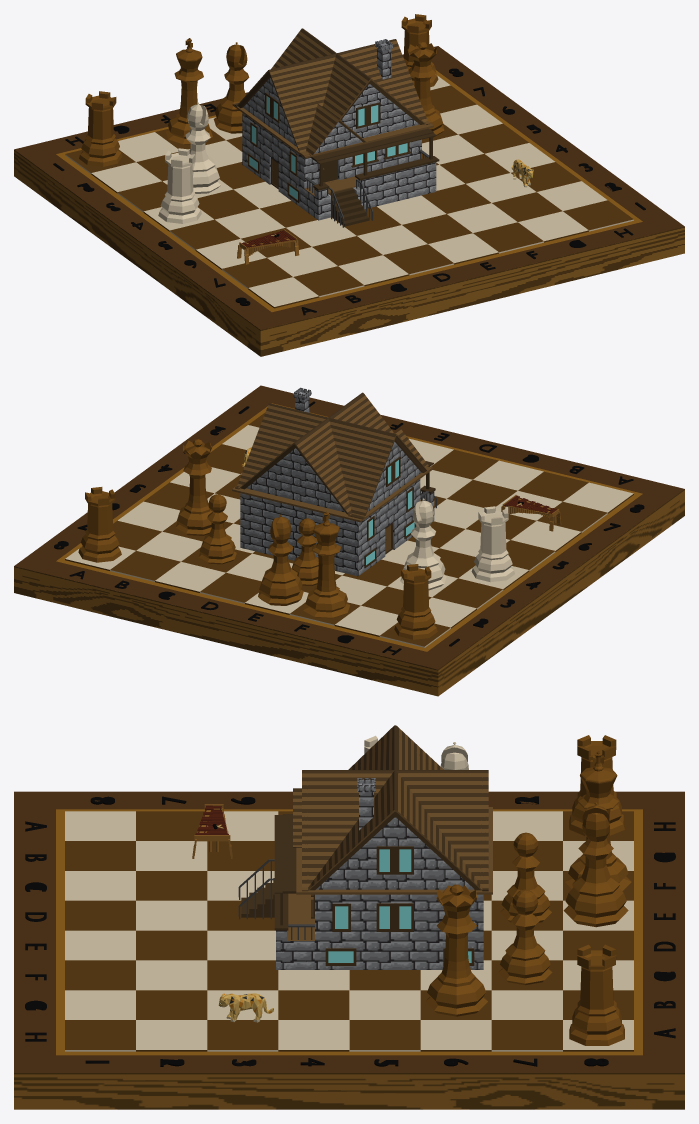
3 renders of one model, top to bottom at view 1: azimuth 30°, elevation 25°; view 2: azimuth 150°, elevation 25°; view 3: azimuth 270°, elevation 25°, orthographic. The views are drawn at different scales.
Visible parts, largest first — view 1: Cube.002, Cube.586, OBJRANDOM_MARIMBA; view 2: Cube.002, Cube.586, OBJRANDOM_MARIMBA; view 3: Cube.002, Cube.586, OBJRANDOM_MARIMBA, ANIMAL_JAGUAR.
Boxes of the visible parts, x1=… form: Cube.002: x1=14, y1=14, x2=684, y2=356; Cube.586: x1=232, y1=28, x2=439, y2=227; OBJRANDOM_MARIMBA: x1=237, y1=229, x2=299, y2=264; Cube.002: x1=14, y1=385, x2=684, y2=696; Cube.586: x1=232, y1=387, x2=436, y2=576; OBJRANDOM_MARIMBA: x1=501, y1=495, x2=561, y2=531; Cube.002: x1=14, y1=735, x2=684, y2=1109; Cube.586: x1=238, y1=725, x2=492, y2=969; OBJRANDOM_MARIMBA: x1=192, y1=804, x2=232, y2=858; ANIMAL_JAGUAR: x1=218, y1=993, x2=273, y2=1022.
Size of the model in its own units: 3981 by 1646 by 4012.
Materials: 27 (3 with a texture image).
